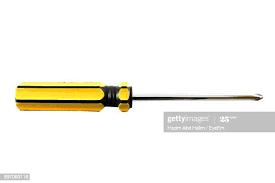screwdriver: (13, 82, 262, 110)
